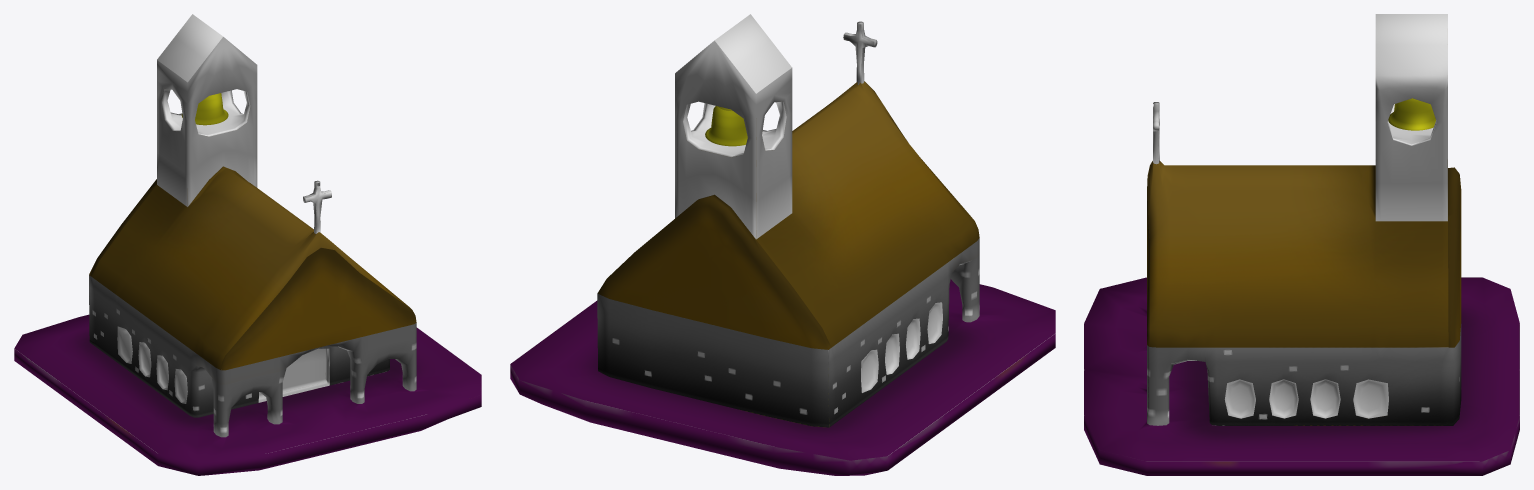
File: Temple.fbx
The picture shows the model from 3 angles, left to right: view 1: azimuth 30°, elevation 25°; view 2: azimuth 150°, elevation 25°; view 3: azimuth 270°, elevation 25°; orthographic projection. The views are drawn at different scales.
Visible parts, largest first — view 1: pCube8; view 2: pCube8; view 3: pCube8.
Boxes of the visible parts, x1,y1,x2,y2 form: pCube8: [14, 14, 481, 475]; pCube8: [510, 14, 1055, 475]; pCube8: [1084, 14, 1519, 475].
Bounding box in the file's own units: 21.07 × 20.55 × 21.07.
